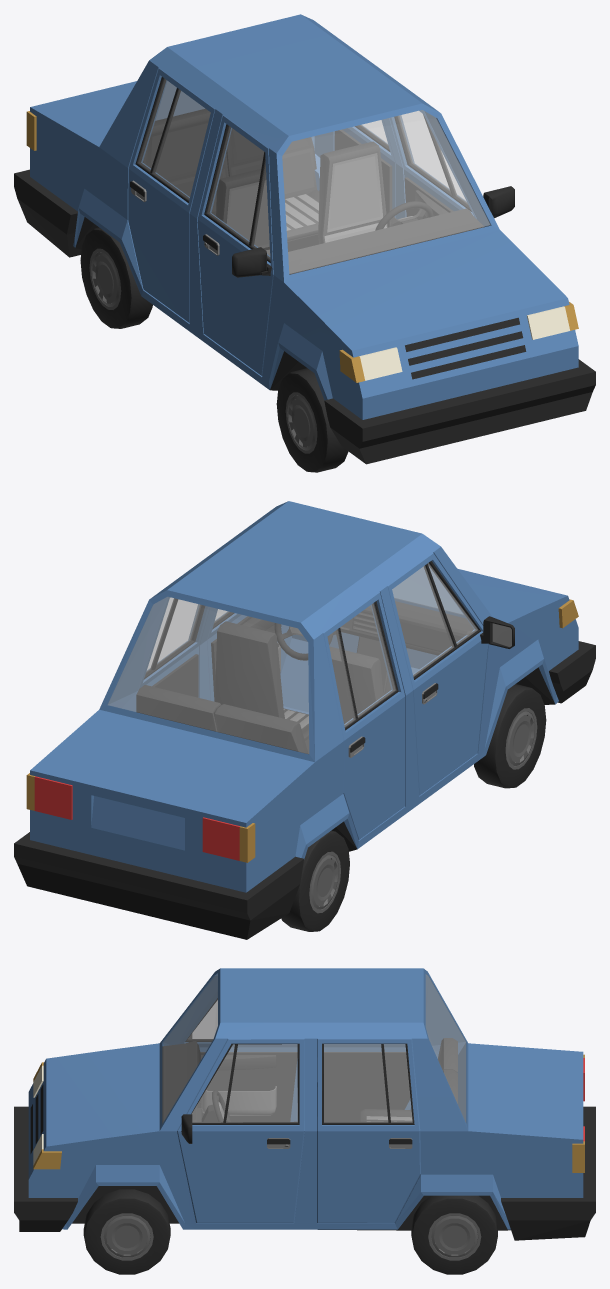
Rendered from car2.obj.
3 views of the same model, one above another, from view 1: azimuth 30°, elevation 25°; view 2: azimuth 150°, elevation 25°; view 3: azimuth 270°, elevation 25° (orthographic). The views are drawn at different scales.
Visible parts, largest first — view 1: Chassis, Windows, Interior, FR_Door, RR_Door, FL_Door, FR_Wheel, RR_Wheel, Front_Lights, RL_Door, Turn_Lights_r, Steerwheel; view 2: Chassis, Windows, Interior, FR_Door, RR_Door, FR_Wheel, RL_Door, RR_Wheel, Brake_Lights, FL_Door, Turn_Lights_r; view 3: Chassis, FL_Door, RL_Door, FR_Door, Windows, FL_Wheel, RR_Door, RL_Wheel, Interior, Turn_Lights_l.
Boxes of the visible parts, left/top/right/bottom form: Chassis: left=14, top=14, right=595, bottom=464; Windows: left=156, top=81, right=490, bottom=273; Interior: left=143, top=108, right=484, bottom=274; FR_Door: left=197, top=115, right=273, bottom=375; RR_Door: left=128, top=68, right=215, bottom=322; FL_Door: left=389, top=110, right=514, bottom=218; FR_Wheel: left=276, top=368, right=348, bottom=472; RR_Wheel: left=80, top=227, right=152, bottom=328; Front_Lights: left=359, top=306, right=569, bottom=380; RL_Door: left=334, top=119, right=395, bottom=227; Turn_Lights_r: left=26, top=111, right=365, bottom=382; Steerwheel: left=375, top=201, right=433, bottom=230; Chassis: left=14, top=501, right=595, bottom=939; Windows: left=108, top=567, right=463, bottom=753; Interior: left=136, top=601, right=473, bottom=754; FR_Door: left=387, top=553, right=514, bottom=795; RR_Door: left=323, top=592, right=405, bottom=839; FR_Wheel: left=474, top=684, right=546, bottom=788; RL_Door: left=138, top=597, right=209, bottom=697; RR_Wheel: left=281, top=830, right=349, bottom=931; Brake_Lights: left=34, top=776, right=239, bottom=860; FL_Door: left=207, top=608, right=280, bottom=701; Turn_Lights_r: left=239, top=599, right=578, bottom=862; Chassis: left=14, top=968, right=595, bottom=1240; FL_Door: left=177, top=1038, right=304, bottom=1223; RL_Door: left=317, top=1038, right=420, bottom=1223; FR_Door: left=179, top=990, right=297, bottom=1121; Windows: left=163, top=974, right=465, bottom=1121; FL_Wheel: left=83, top=1189, right=170, bottom=1274; RR_Door: left=324, top=1044, right=411, bottom=1121; RL_Wheel: left=411, top=1195, right=497, bottom=1274; Interior: left=162, top=1038, right=457, bottom=1123; Turn_Lights_l: left=33, top=1141, right=584, bottom=1172.
Size of the model in its own units: 5.2 by 4.99 by 11.18.
